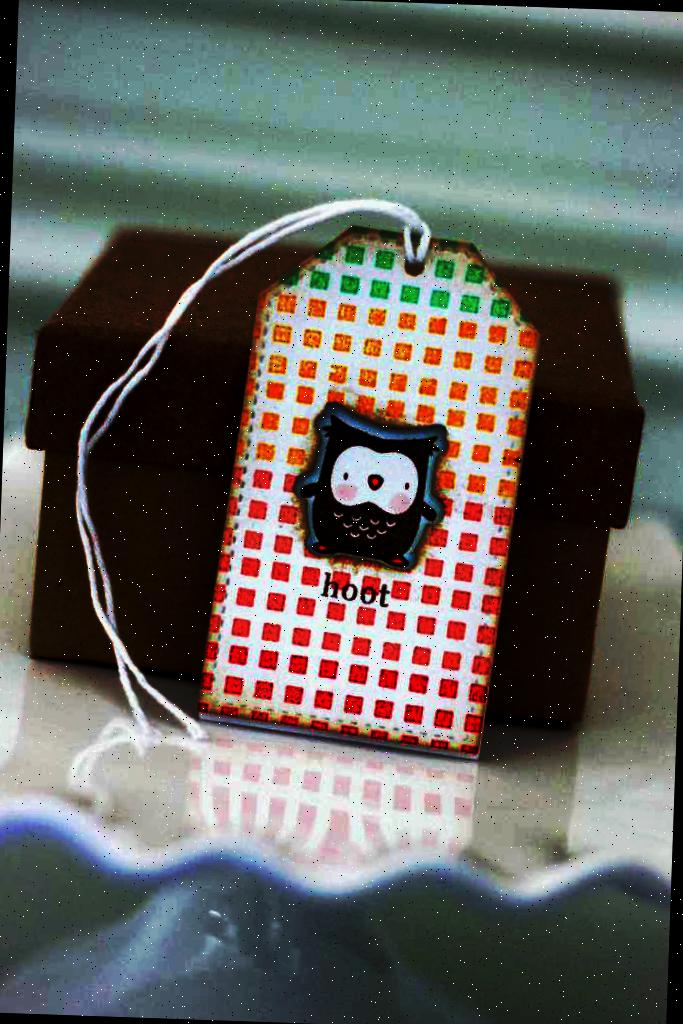Owl: (296, 409, 446, 575)
